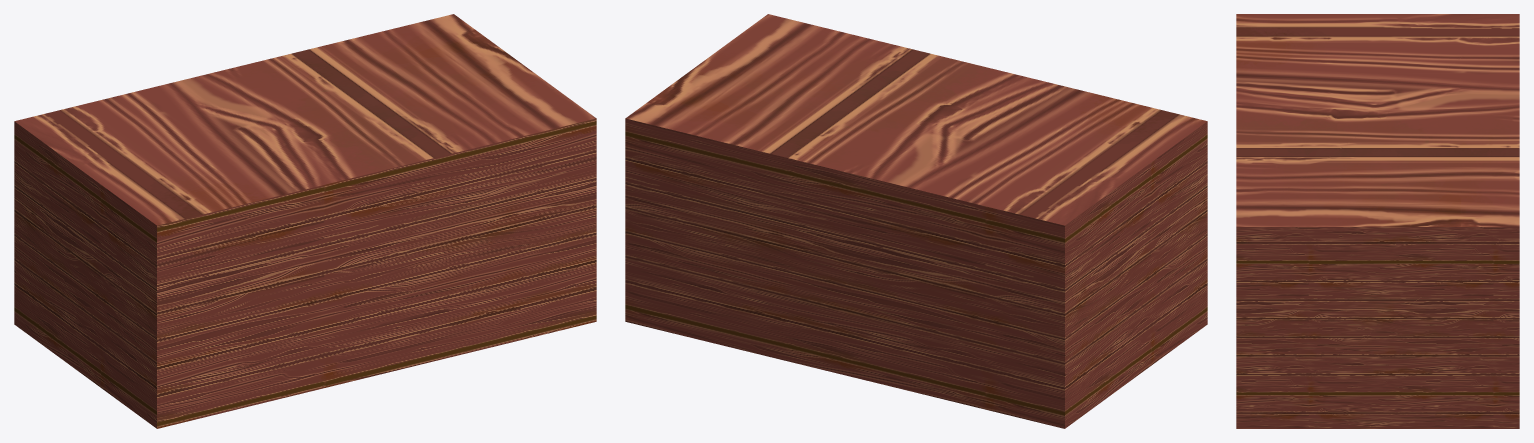
The picture shows the model from 3 angles, left to right: view 1: azimuth 30°, elevation 25°; view 2: azimuth 150°, elevation 25°; view 3: azimuth 270°, elevation 25°; orthographic projection.
Parts seen in each view (by area): view 1: Cube.864; view 2: Cube.864; view 3: Cube.864.
Boxes of the visible parts, x1,y1,x2,y2 form: Cube.864: (14,14,596,428); Cube.864: (625,14,1207,428); Cube.864: (1236,14,1519,428).
Size of the model in its own units: 646 by 286 by 363.
1 material, 1 textured.
